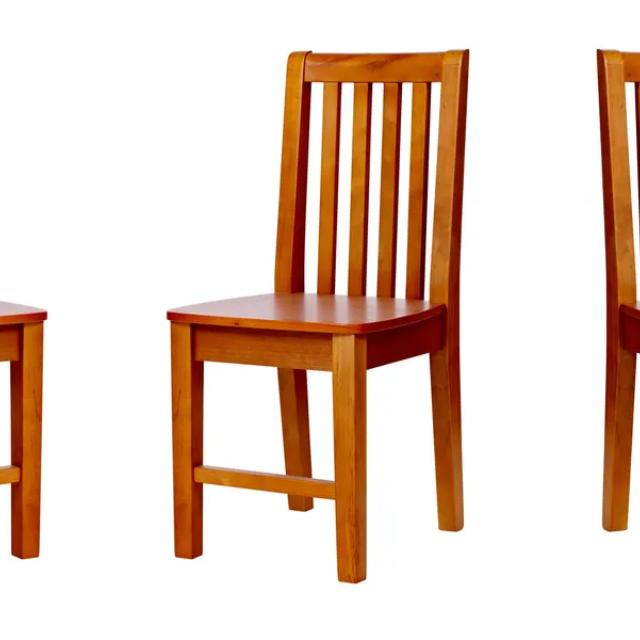obstacle: (136, 19, 518, 597), (548, 19, 640, 597), (0, 19, 76, 597)
